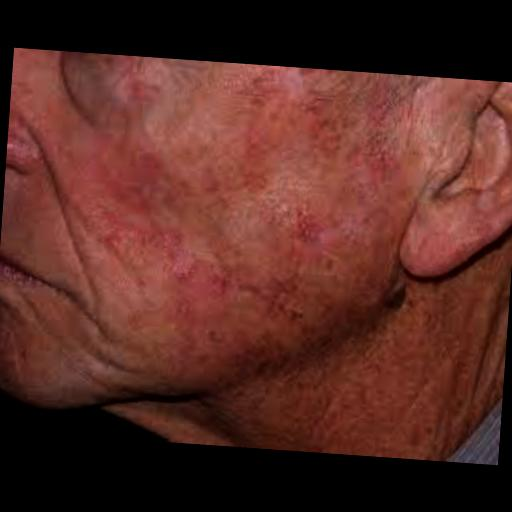Skin_Lesion: (234, 86, 412, 283), (22, 53, 186, 235), (225, 327, 308, 397), (172, 260, 224, 312), (286, 206, 330, 254)
